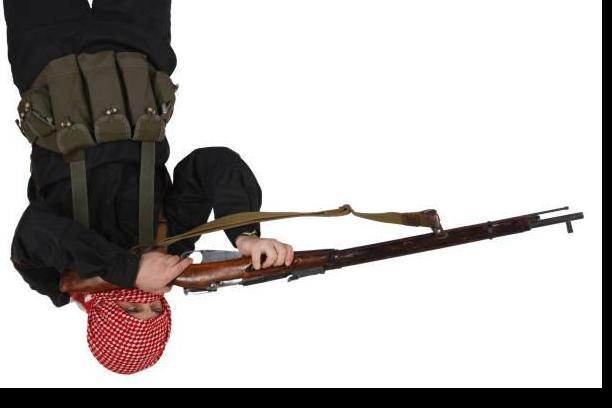larga: (22, 205, 584, 297)
